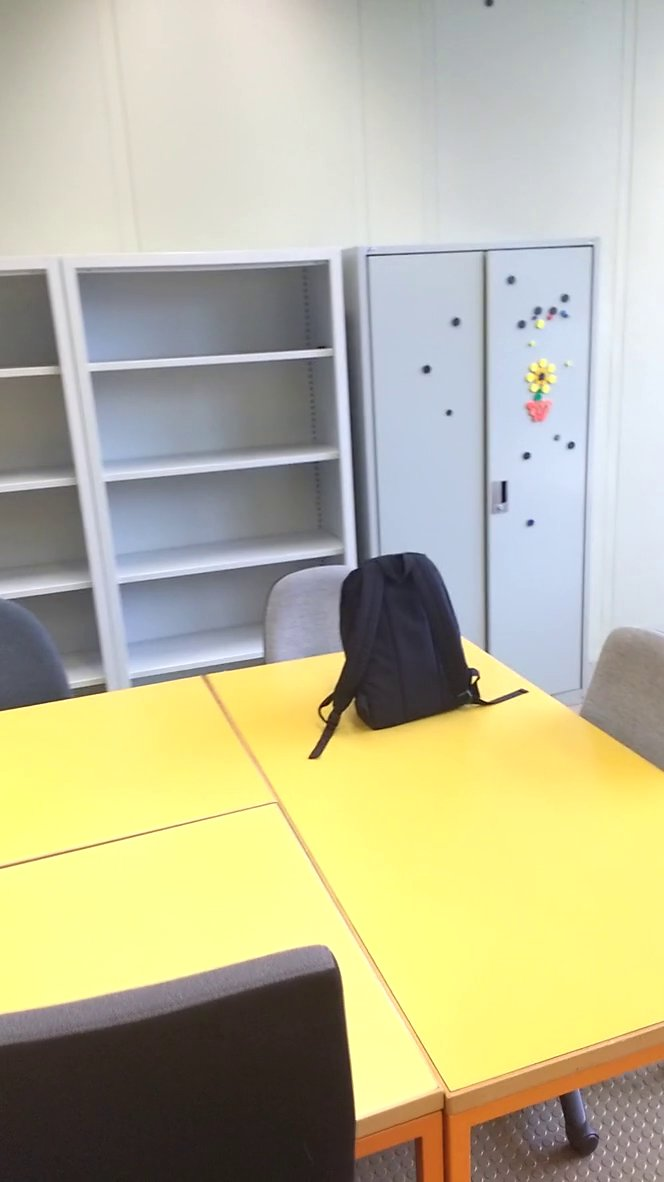bag: (303, 536, 538, 767)
